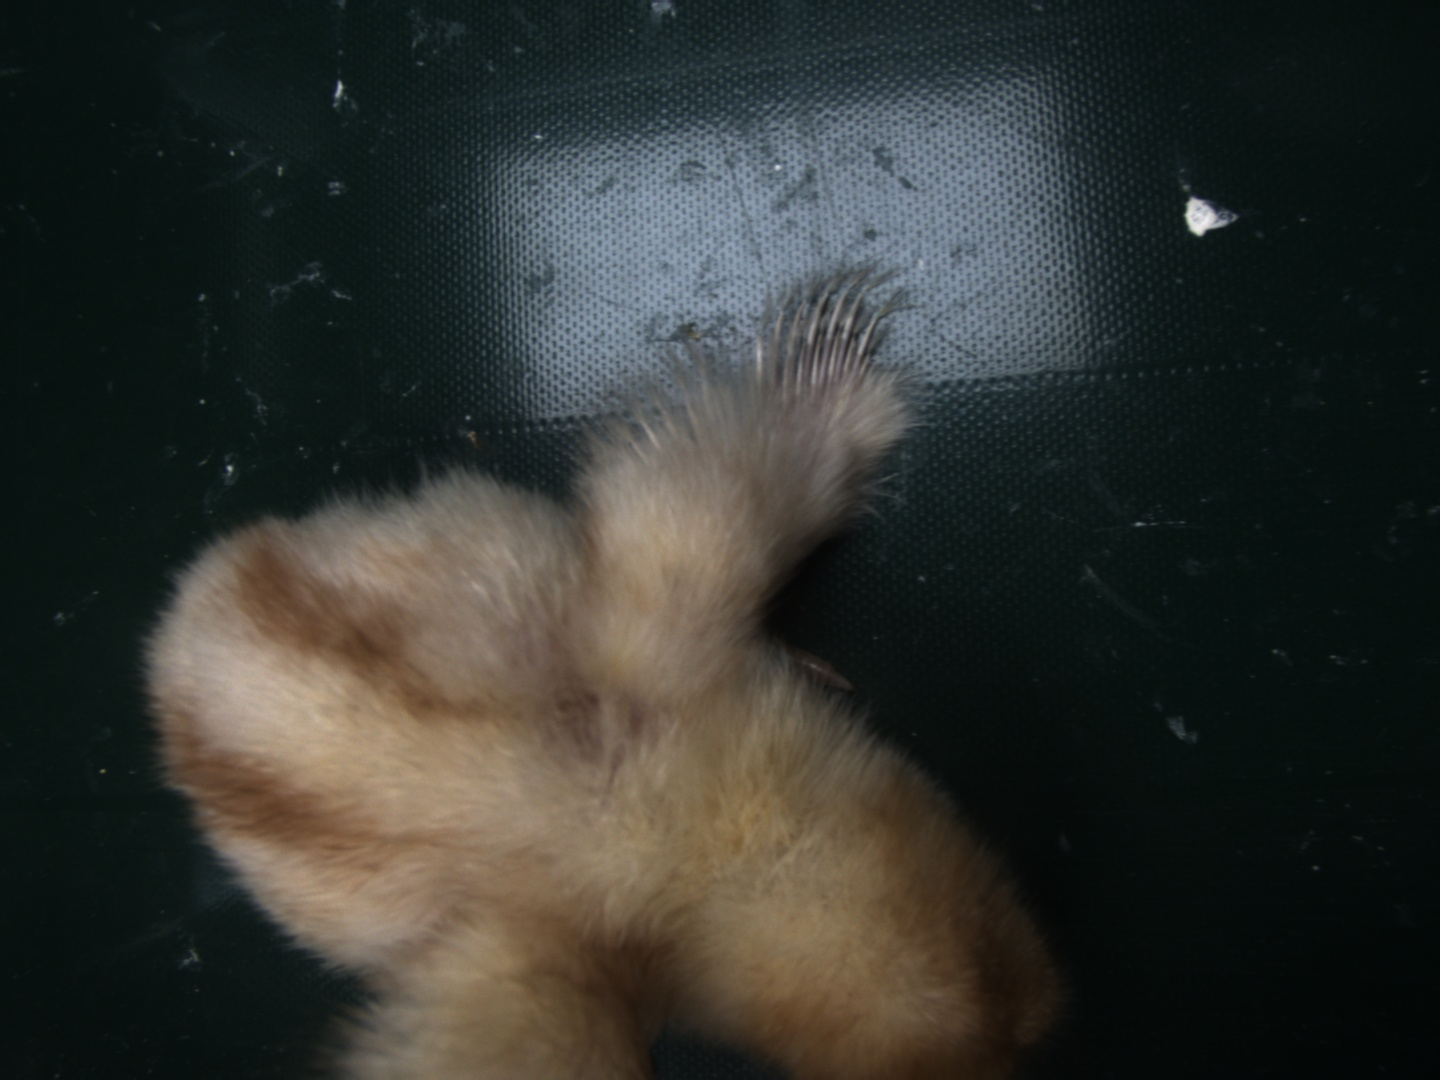female: (752, 288, 886, 395)
